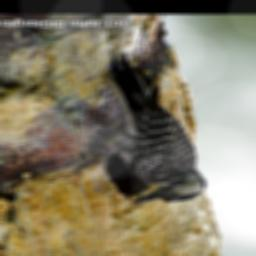Woodpecker: (83, 51, 208, 205)
